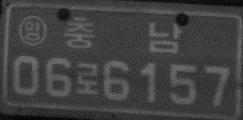0: (11, 53, 40, 96)
1: (136, 61, 164, 103)
5: (168, 63, 198, 106)
6: (101, 60, 130, 102), (44, 56, 72, 98)
7: (204, 65, 231, 107)
로: (75, 62, 99, 96)
영: (17, 14, 46, 46)
충남_D: (63, 15, 181, 53)
